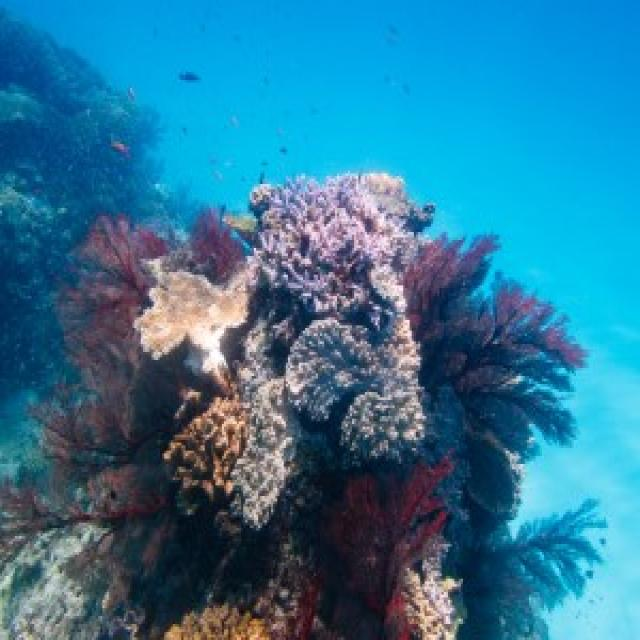Healthy: (242, 174, 426, 526), (426, 278, 583, 510), (48, 217, 170, 465), (332, 465, 451, 614), (135, 260, 246, 374), (163, 388, 246, 510), (404, 238, 496, 337), (400, 540, 458, 636), (182, 209, 244, 284), (165, 604, 270, 638), (157, 278, 170, 308)
